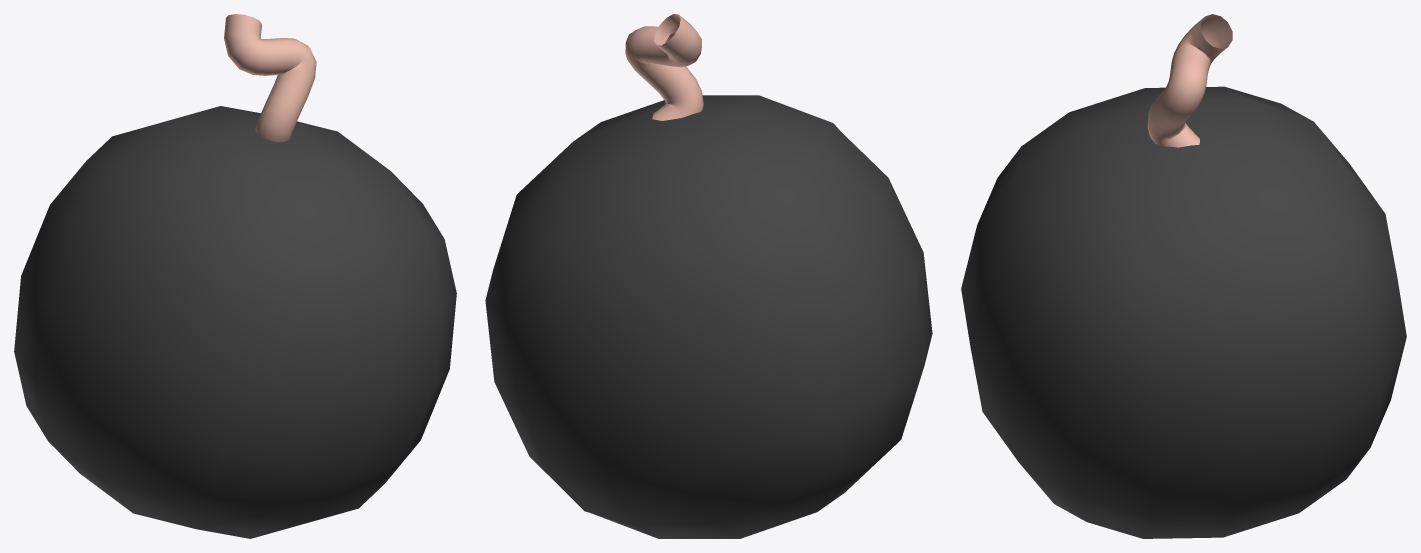
The model's file is MadeByJawns_ItchIO_GameItems_v1_0_1_Bomb.glb.
3 renders of one model, left to right at view 1: azimuth 30°, elevation 25°; view 2: azimuth 150°, elevation 25°; view 3: azimuth 270°, elevation 25°, orthographic. The views are drawn at different scales.
Parts seen in each view (by area): view 1: Bomb; view 2: Bomb; view 3: Bomb.
Part boxes in pixels (bbox=[...]): Bomb: bbox=[14, 14, 456, 538]; Bomb: bbox=[485, 14, 932, 538]; Bomb: bbox=[961, 14, 1406, 538].
Bounding box in the file's own units: 5.73 × 7.14 × 5.68.
